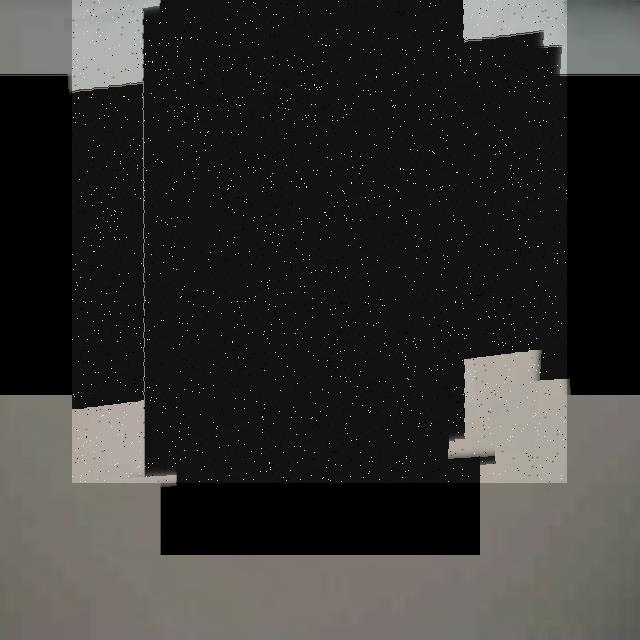dua puluh ribu rupiah: (72, 0, 567, 483)
